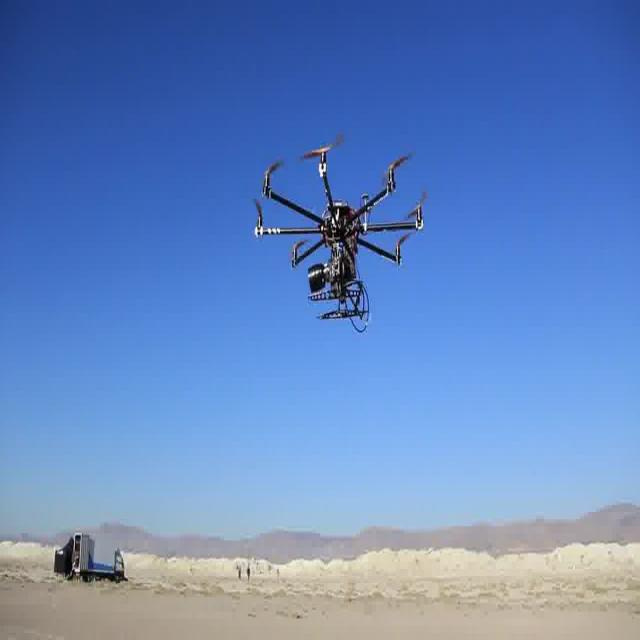drone: (248, 132, 434, 340)
